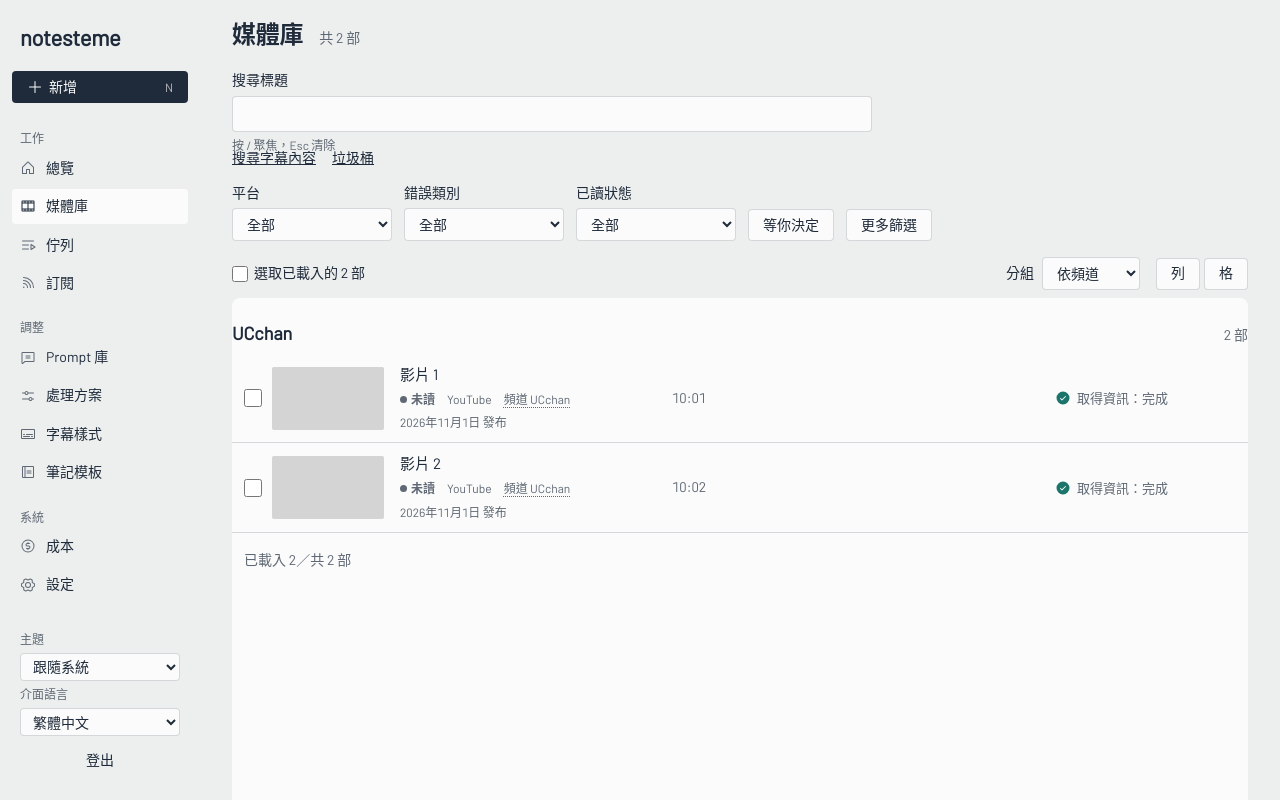
Test: 媒體庫：分組（LIB-R4） › 切換成依狀態：寫進網址、重新查詢，組名來自 API 的 group
Expected: the heading "媒體庫" is shown, [232,20,303,49]
Expected: the link "影片 2" is shown, [400,454,441,472]
Select "依狀態" in the dropdown labelled "分組" at coordinates (1091, 274), box [1042,257,1140,290]
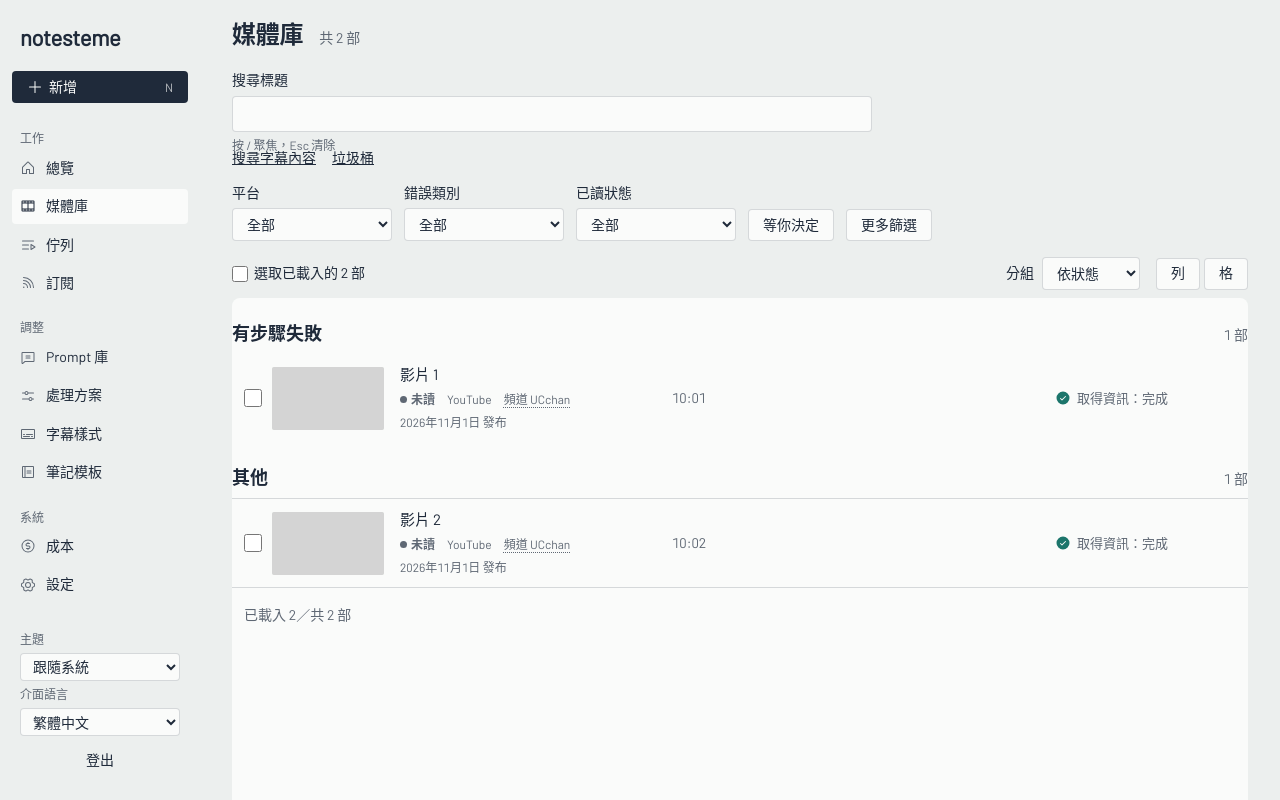
Now the heading "有步驟失敗 1 部" is shown, box [232,322,1248,346]
Now the heading "其他 1 部" is shown, box [232,466,1248,490]
